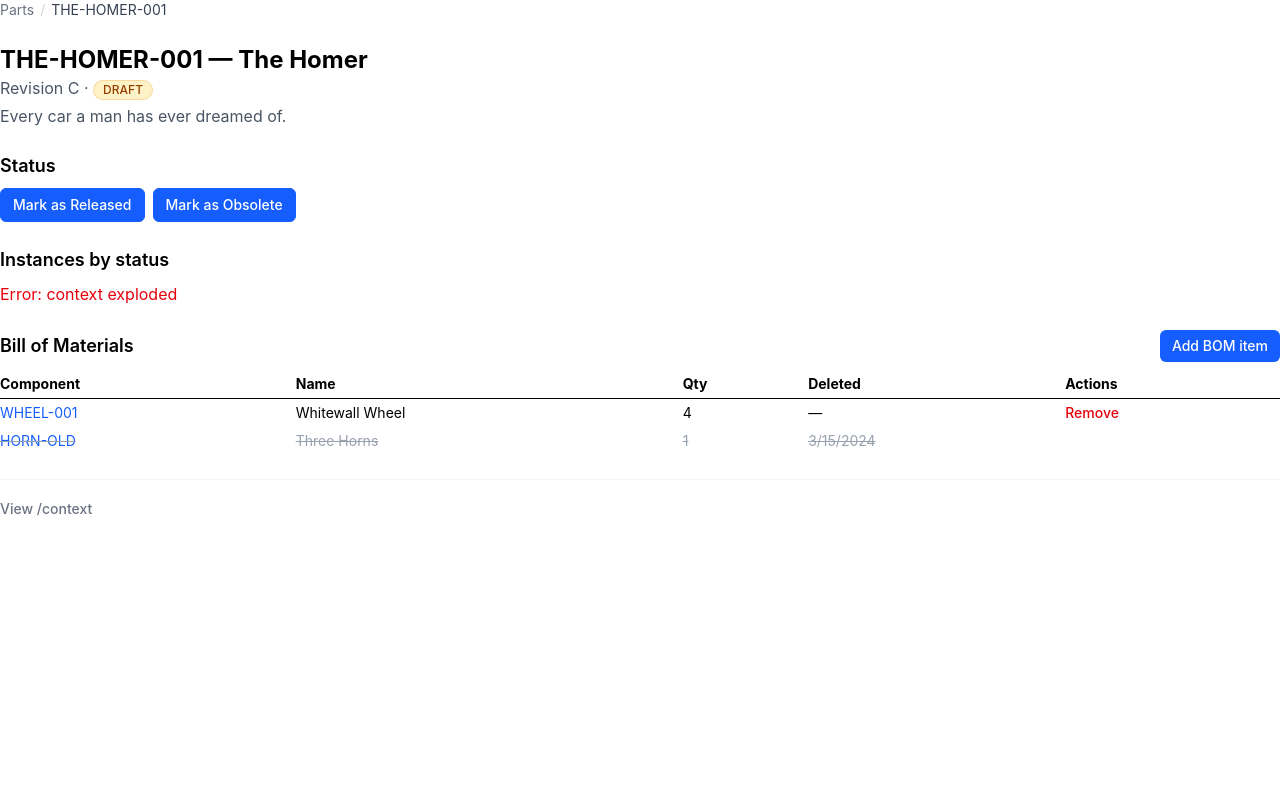
Test: PartDetail › shows an error inside the /context modal when context fails
Expected: the heading "THE-HOMER-001 — The Homer" is shown, [0, 45, 368, 74]
Click the button "View /context".
click(46, 509)  # box [0, 499, 92, 519]
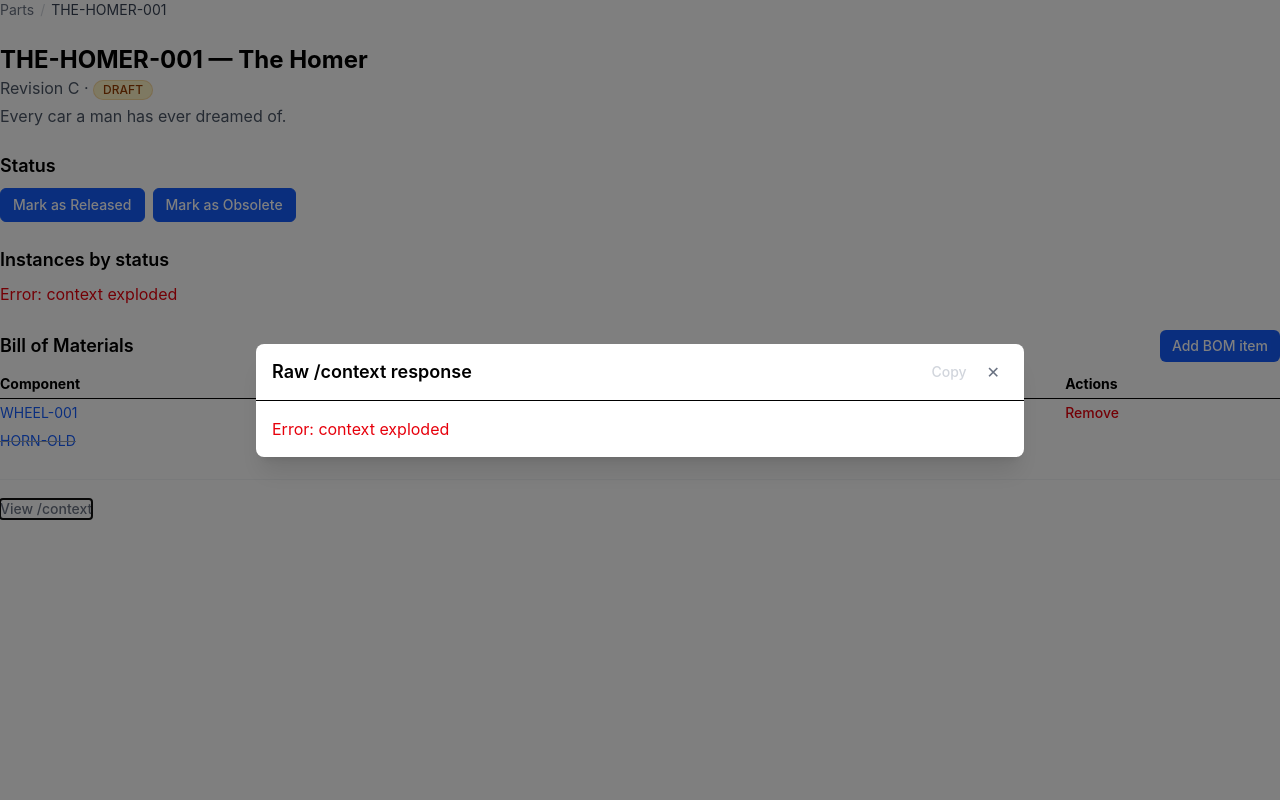
Expected: the text "Error: context exploded" is shown, [272, 418, 449, 438]
